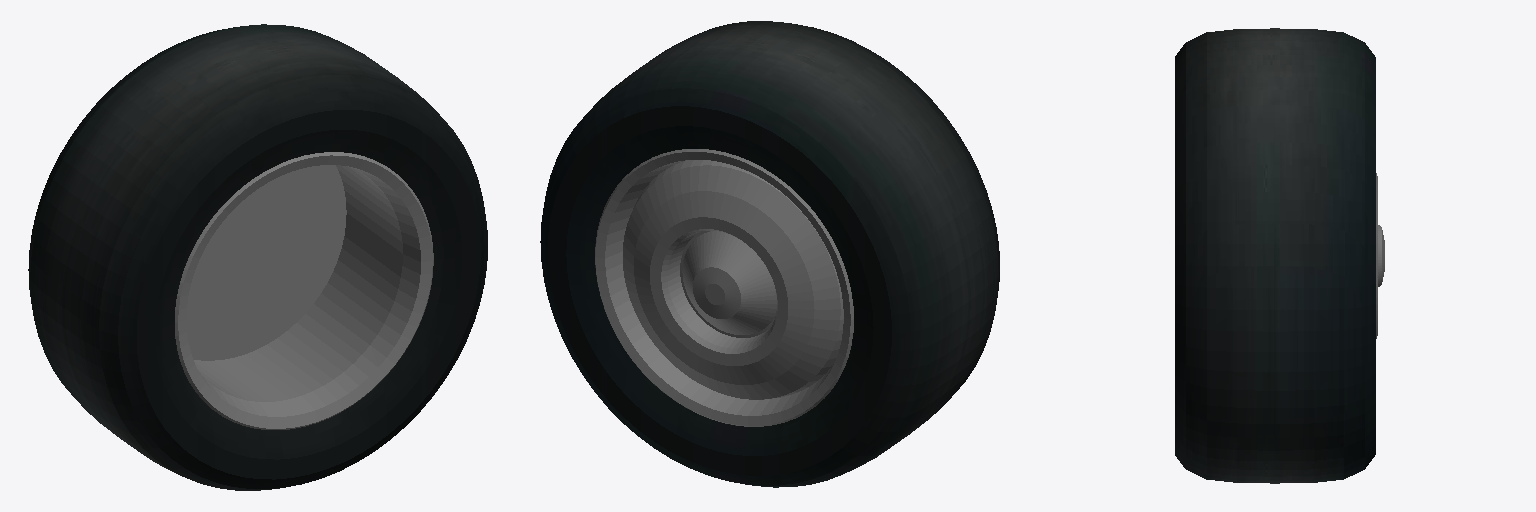
The picture shows the model from 3 angles: view 1: azimuth 30°, elevation 25°; view 2: azimuth 150°, elevation 25°; view 3: azimuth 270°, elevation 25°; orthographic projection.
Visible parts, largest first — view 1: Caucho_Izquierdo, Llanta_Izquierda; view 2: Caucho_Izquierdo, Llanta_Izquierda; view 3: Caucho_Izquierdo, Llanta_Izquierda.
Part boxes in pixels (left/top/right/bottom): Caucho_Izquierdo: left=28, top=24, right=487, bottom=490; Llanta_Izquierda: left=175, top=152, right=433, bottom=429; Caucho_Izquierdo: left=540, top=21, right=999, bottom=487; Llanta_Izquierda: left=595, top=149, right=853, bottom=426; Caucho_Izquierdo: left=1175, top=28, right=1375, bottom=483; Llanta_Izquierda: left=1376, top=173, right=1384, bottom=338.
Bounding box in the file's own units: 5.98 × 5.98 × 2.77.
2 materials, 1 textured.